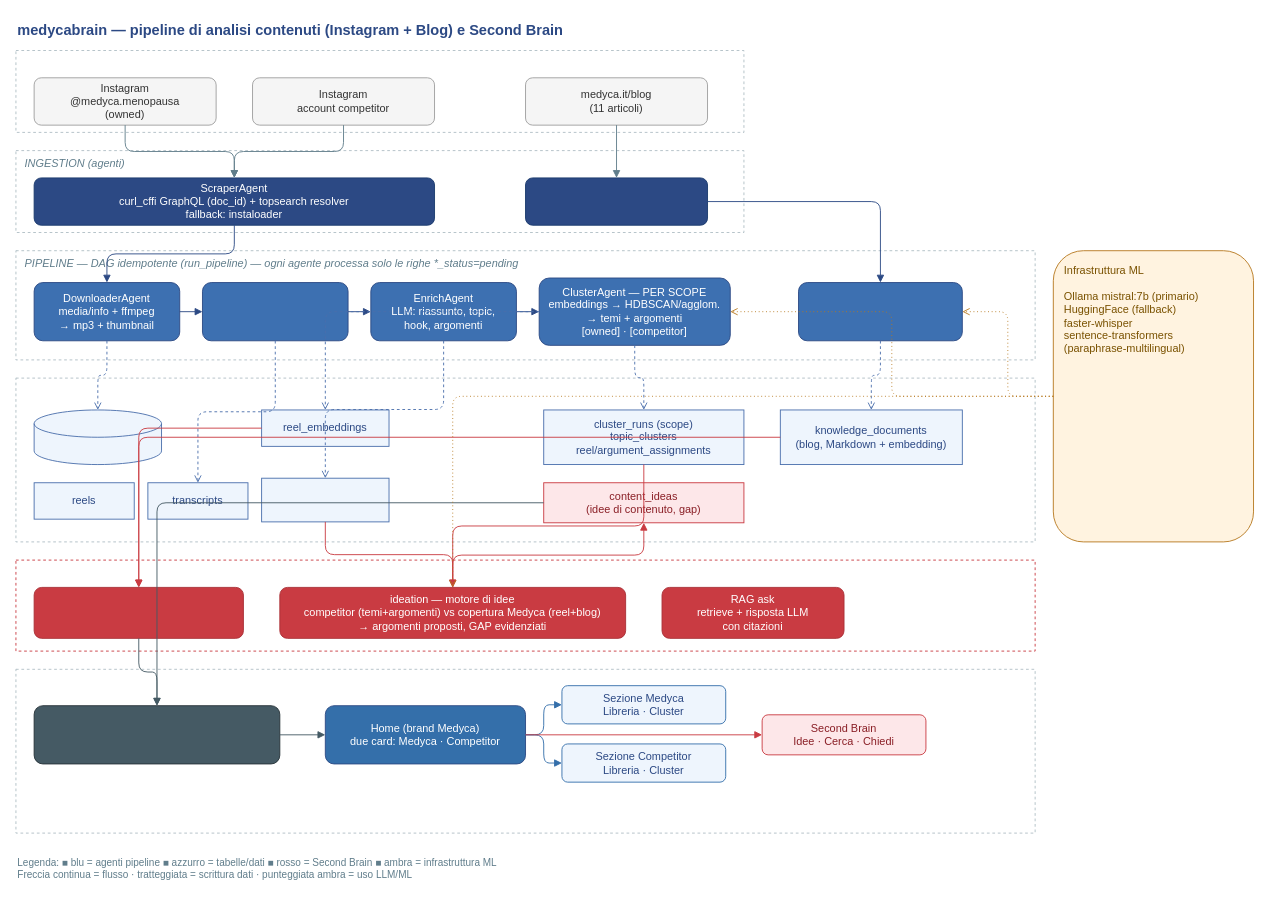
The diagram is 1269 pixels wide and 903 high, and some of its shapes have lost their labels. The shapes that lost their labels are listed below. From the top down, each one's box as (x1, y1, x2, y2) in pixels, then its label:
(15, 50, 744, 132): FONTI
(525, 177, 708, 225): ingest_blog requests + trafilatura → Markdown
(202, 282, 348, 341): TranscriberAgent faster-whisper (IT) → trascrizione
(798, 282, 962, 341): KnowledgeAgent LLM riassunto/topic + embedding (blog)
(33, 409, 162, 465): media mp3 + thumbnail
(15, 377, 1035, 542): DATI — PostgreSQL + media
(261, 477, 389, 522): enrichments + reel_arguments
(33, 586, 243, 638): semantic_search retrieval su blog + reel owned (coseno su embeddings)
(15, 559, 1035, 651): SECOND BRAIN — intelligenza sui contenuti
(33, 705, 280, 764): DRF API /reels?scope · /clusters?scope /knowledge · /second-brain/ideas
(15, 668, 1035, 833): API + FRONTEND (interno)
